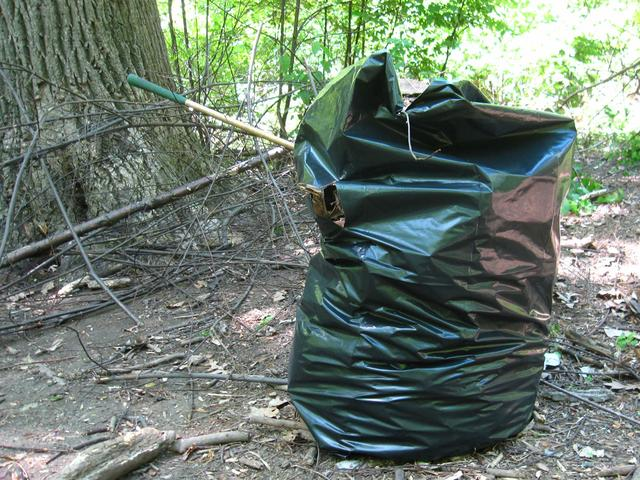garbage: (320, 86, 541, 458)
